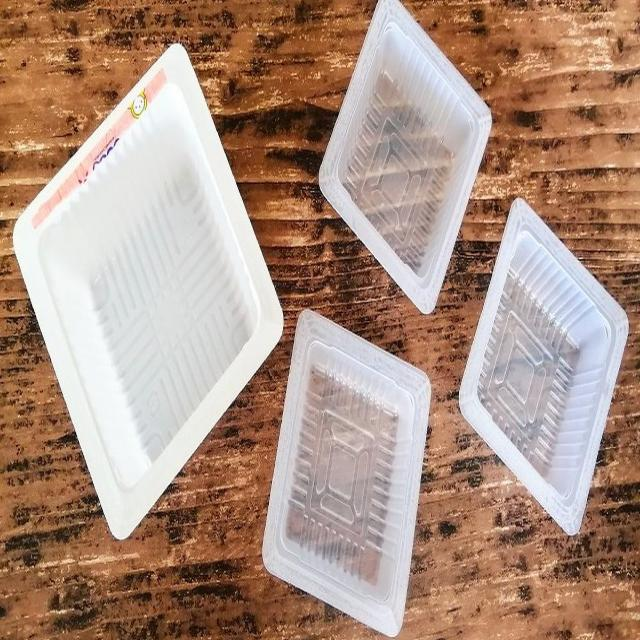plastic: (16, 41, 281, 526), (461, 200, 628, 542), (266, 307, 432, 631), (320, 0, 490, 304)
